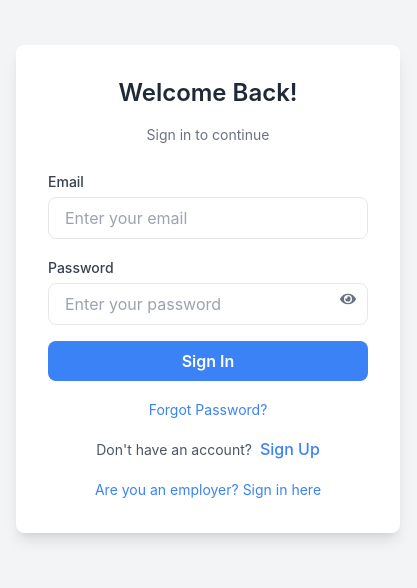
Test: AuthForm Component Tests › displays error on sign-in failure
The image size is (417, 588).
Type "wrong@example.com" into the field with placeholder "Enter your email" at (208, 218), box x1=48 y1=197 x2=368 y2=239
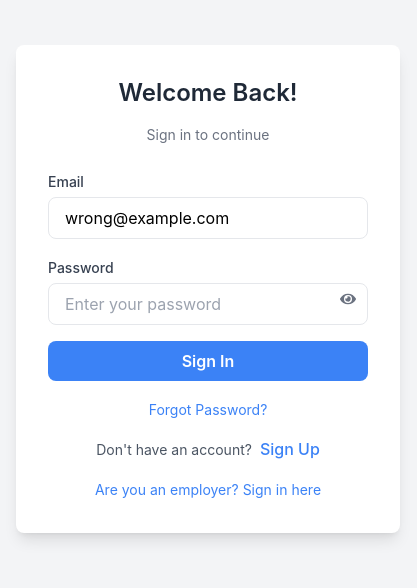
Type "WrongPass1" into the password field with placeholder "Enter your password" at (208, 304), box x1=48 y1=283 x2=368 y2=325
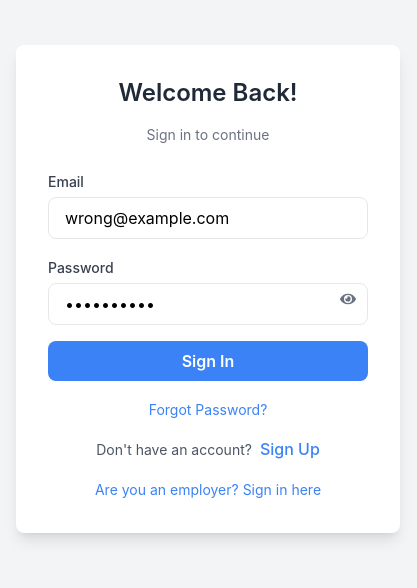
Click the button "Sign In" at (208, 361), box x1=48 y1=341 x2=368 y2=381
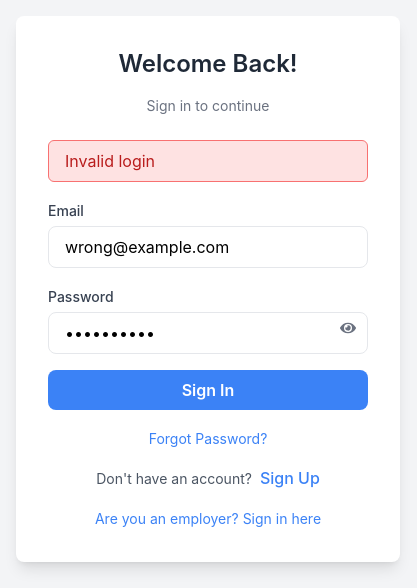
Check: the text "Invalid login" is shown, box x1=48 y1=140 x2=368 y2=182
